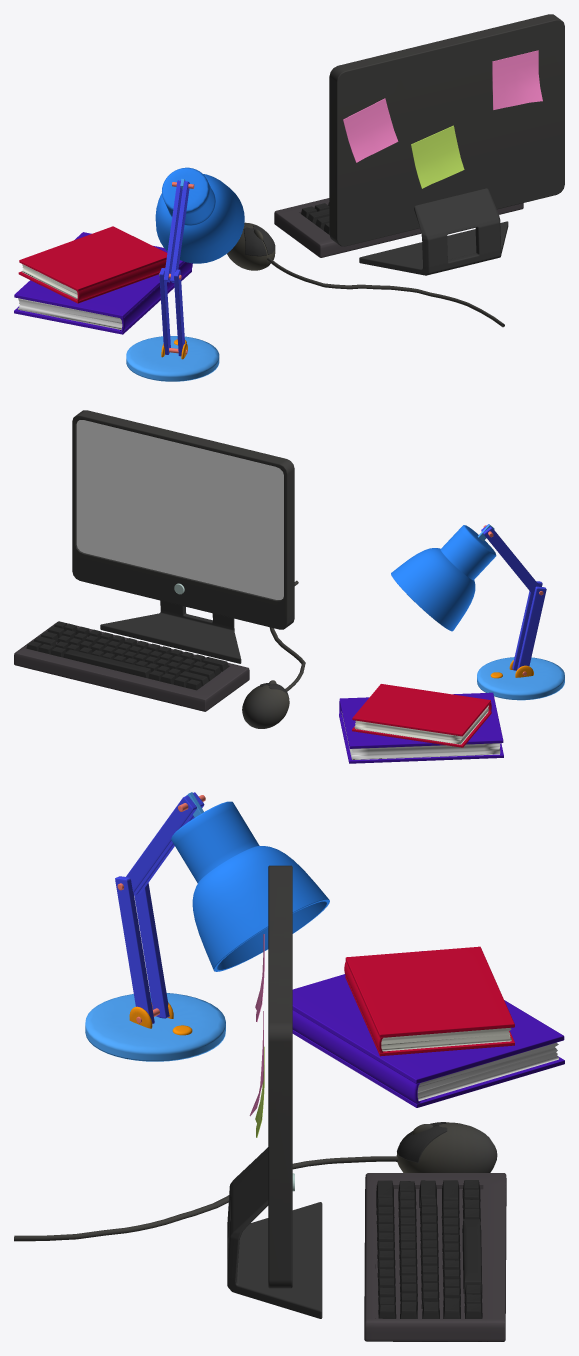
The model's file is New_Computer.fbx.
The picture shows the model from 3 angles, top to bottom: view 1: azimuth 30°, elevation 25°; view 2: azimuth 150°, elevation 25°; view 3: azimuth 270°, elevation 25°; orthographic projection. The views are drawn at different scales.
Visible parts, largest first — view 1: pCube12, iMac1, Plane, Plane.001, Plane.103; view 2: pCube12, iMac1; view 3: iMac1, pCube12.
Part boxes in pixels (box(x1,y1,x2,y2)): pCube12: box(329, 14, 564, 275); iMac1: box(14, 167, 523, 381); Plane: box(492, 50, 542, 109); Plane.001: box(343, 98, 398, 162); Plane.103: box(411, 125, 464, 188); pCube12: box(72, 410, 294, 663); iMac1: box(14, 524, 564, 763); iMac1: box(14, 792, 564, 1341); pCube12: box(227, 865, 322, 1318).
Size of the model in its own units: 200 by 87.9 by 127.
